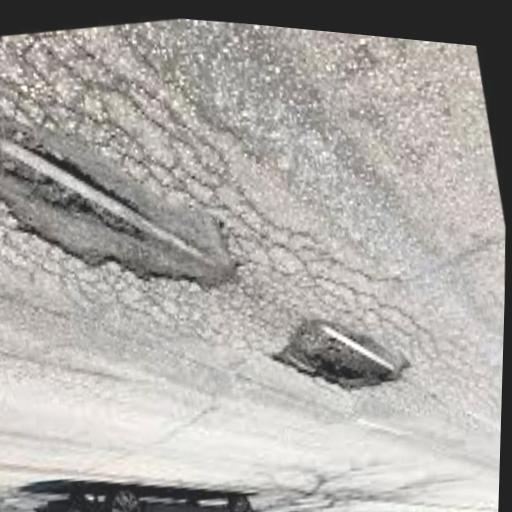pothole: (246, 203, 512, 512), (0, 89, 11, 320)
